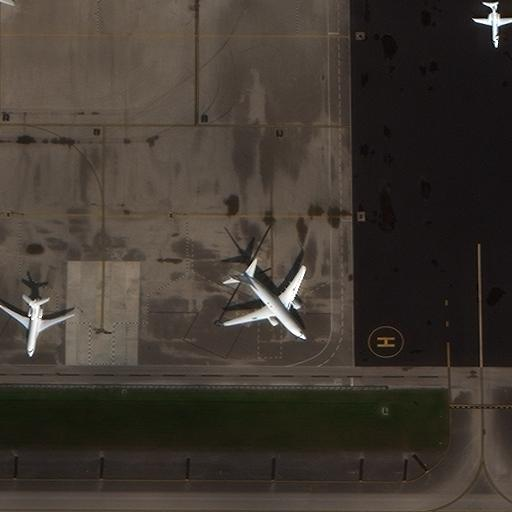Medium Civil Transport: (223, 266, 306, 340), (0, 297, 75, 357)
Small Civil Transport: (475, 1, 511, 48)
